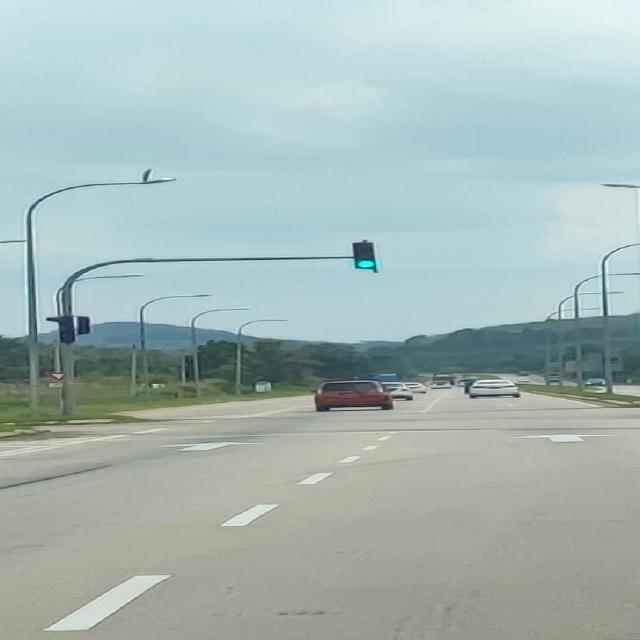car: (313, 380, 394, 412), (583, 378, 609, 393)
traffic light: (353, 242, 377, 272), (59, 316, 75, 344)
